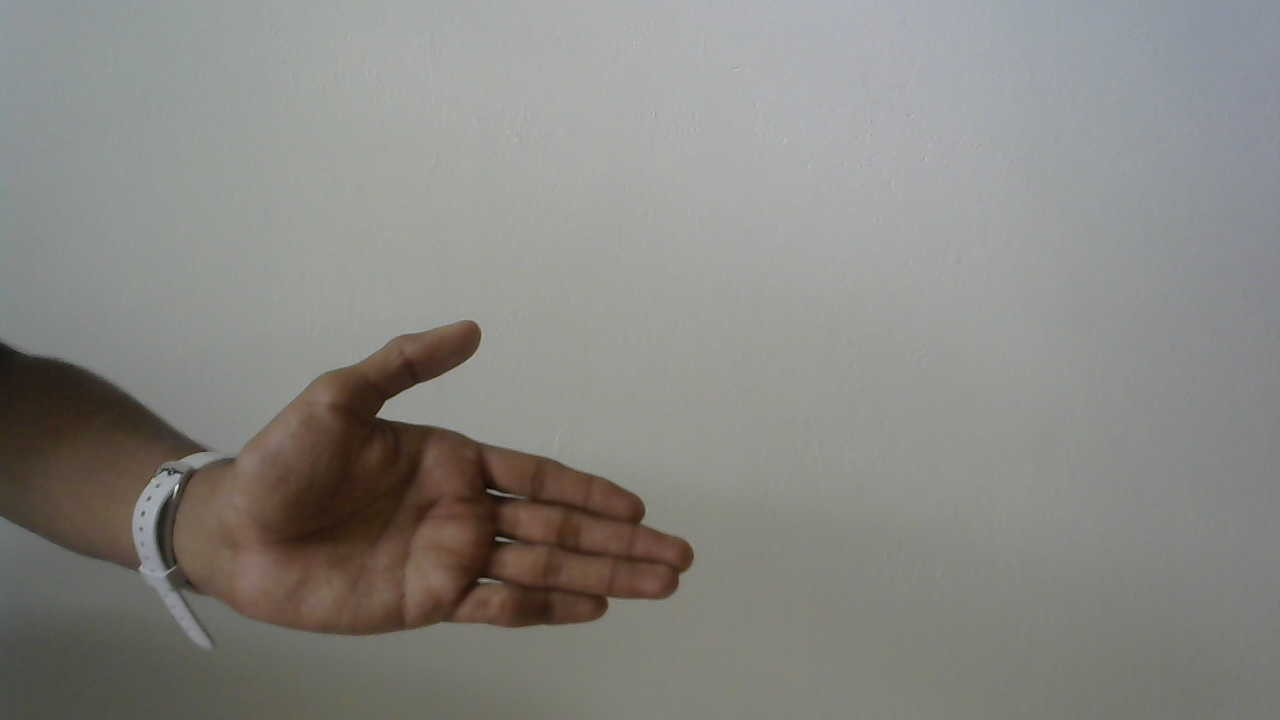hello: (224, 313, 707, 639)
